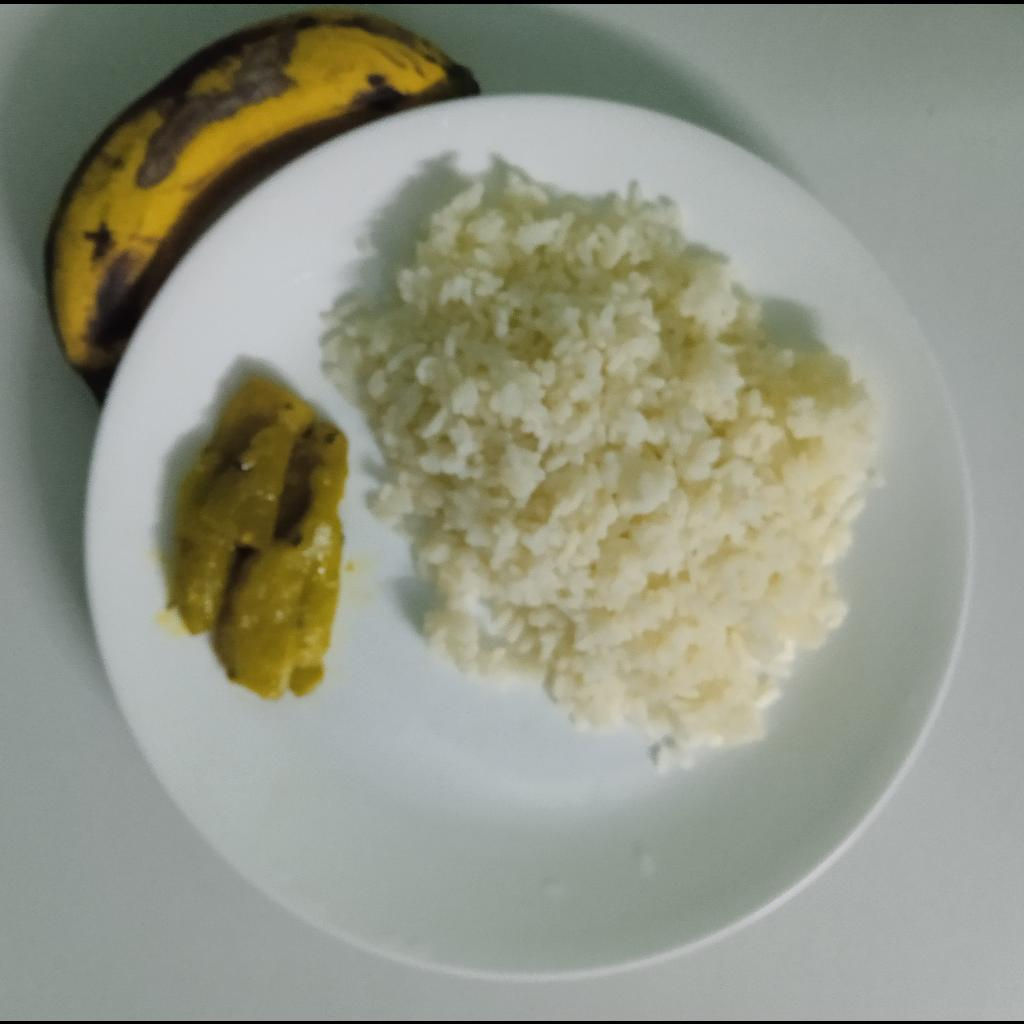banana: (45, 9, 482, 410)
dundol: (171, 372, 348, 698)
rice: (323, 181, 882, 772)
